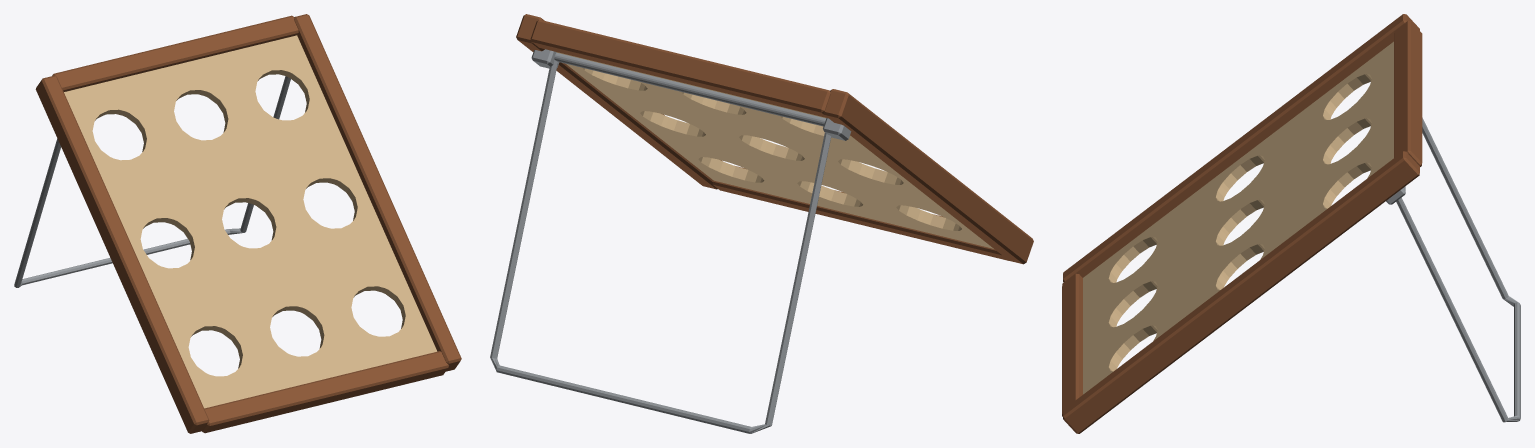
File: full.glb
3 renders of one model, left to right at view 1: azimuth 30°, elevation 25°; view 2: azimuth 150°, elevation 25°; view 3: azimuth 270°, elevation 25°, orthographic. The views are drawn at different scales.
Visible parts, largest first — view 1: Single face with nine real through holes, Long raised side rail -1, Long raised side rail 1, Cross end rail -1, Cross end rail 1, Bent rear support loop; view 2: Single face with nine real through holes, Cross end rail 1, Long raised side rail -1, Bent rear support loop, Long raised side rail 1, Cross end rail -1, Captive transverse pivot; view 3: Single face with nine real through holes, Long raised side rail 1, Long raised side rail -1, Bent rear support loop, Cross end rail 1, Cross end rail -1.
Part boxes in pixels (bbox=[...]): Single face with nine real through holes: bbox=[64, 35, 437, 408]; Long raised side rail -1: bbox=[35, 75, 209, 433]; Long raised side rail 1: bbox=[294, 14, 461, 371]; Cross end rail -1: bbox=[202, 351, 448, 433]; Cross end rail 1: bbox=[52, 15, 298, 91]; Bent rear support loop: bbox=[14, 76, 290, 287]; Single face with nine real through holes: bbox=[556, 52, 993, 248]; Cross end rail 1: bbox=[530, 19, 830, 117]; Long raised side rail -1: bbox=[823, 89, 1033, 264]; Bent rear support loop: bbox=[490, 60, 831, 433]; Long raised side rail 1: bbox=[516, 14, 721, 189]; Cross end rail -1: bbox=[712, 166, 1008, 260]; Captive transverse pivot: bbox=[554, 53, 826, 126]; Single face with nine real through holes: bbox=[1083, 41, 1393, 394]; Long raised side rail 1: bbox=[1063, 151, 1419, 433]; Long raised side rail -1: bbox=[1063, 14, 1419, 282]; Bent rear support loop: bbox=[1396, 117, 1520, 422]; Cross end rail 1: bbox=[1394, 21, 1422, 166]; Cross end rail -1: bbox=[1062, 273, 1082, 416].
Size of the model in its own units: 0.592 by 0.5294 by 0.7877.
